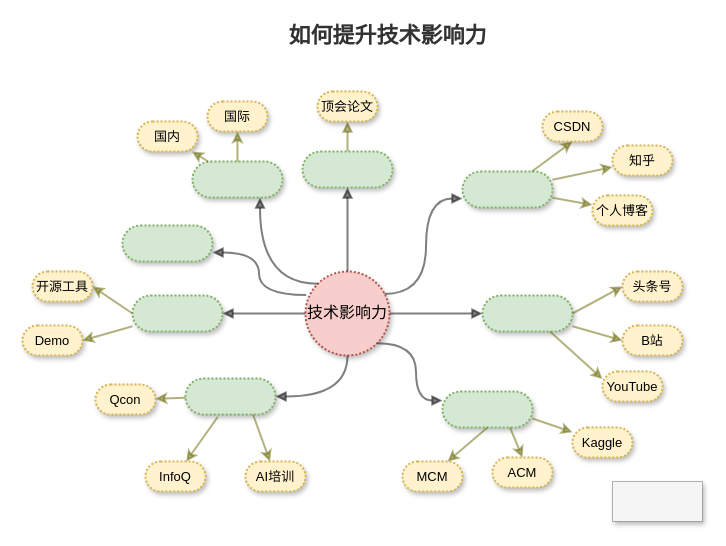
Image size: 726x546. Some labels were removed from this diagram. The centre of each missing label's shape, as x and y in pixels:
wangqiwen 2020.7.4: the point at 658,502
专利: the point at 238,180
书籍: the point at 168,244
实战: the point at 178,314
技术交流: the point at 231,397
技术博客: the point at 508,190
技术竞赛: the point at 488,410
自媒体: the point at 528,314
论文: the point at 348,170
